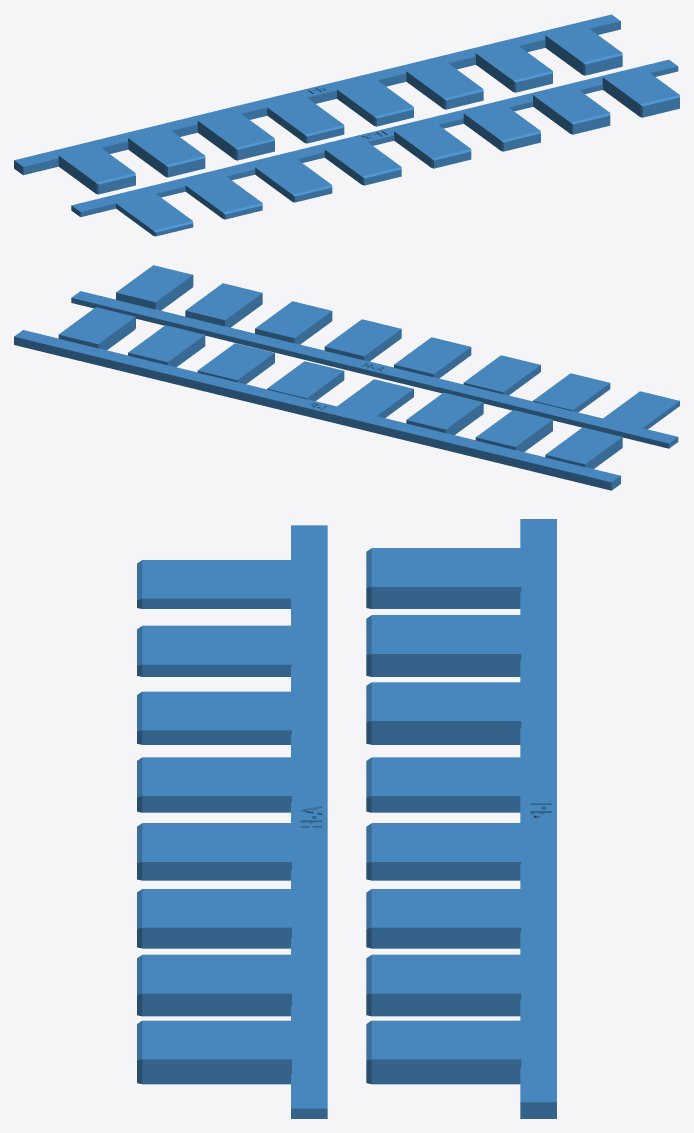
The model's file is part-ms01-retaining-comb__v1__combs.glb.
3 renders of one model, top to bottom at view 1: azimuth 30°, elevation 25°; view 2: azimuth 150°, elevation 25°; view 3: azimuth 270°, elevation 25°, orthographic. The views are drawn at different scales.
Visible parts, largest first — view 1: Reusable comb.001, Reusable comb; view 2: Reusable comb.001, Reusable comb; view 3: Reusable comb.001, Reusable comb.
Boxes of the visible parts, x1=… form: Reusable comb.001: x1=14, y1=14, x2=622, y2=194; Reusable comb: x1=71, y1=59, x2=679, y2=236; Reusable comb.001: x1=14, y1=307, x2=622, y2=490; Reusable comb: x1=71, y1=265, x2=679, y2=448; Reusable comb.001: x1=366, y1=519, x2=556, y2=1118; Reusable comb: x1=137, y1=525, x2=327, y2=1118.
Bounding box in the file's own units: 0.1504 × 0.003 × 0.0458.
